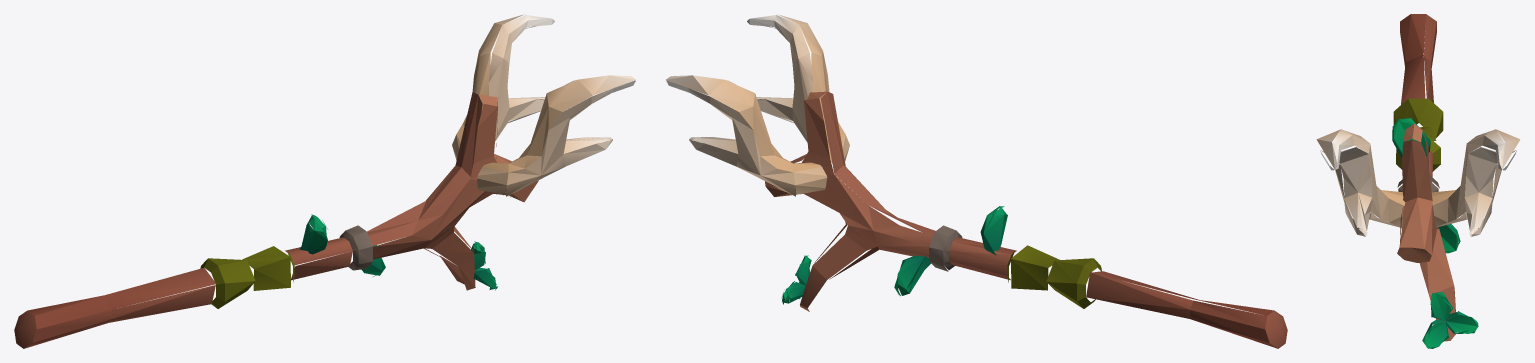
File: druid_staff_t1.glb
3 renders of one model, left to right at view 1: azimuth 30°, elevation 25°; view 2: azimuth 150°, elevation 25°; view 3: azimuth 270°, elevation 25°, orthographic. The views are drawn at different scales.
Parts seen in each view (by area): view 1: druid_staff_t1__handslot_r; view 2: druid_staff_t1__handslot_r; view 3: druid_staff_t1__handslot_r.
Boxes of the visible parts, left/top/right/bottom form: druid_staff_t1__handslot_r: left=14, top=14, right=635, bottom=348; druid_staff_t1__handslot_r: left=666, top=14, right=1287, bottom=348; druid_staff_t1__handslot_r: left=1316, top=14, right=1520, bottom=348.
Bounding box in the file's own units: 2.26 × 0.8746 × 0.6707.
1 material, 1 textured.
